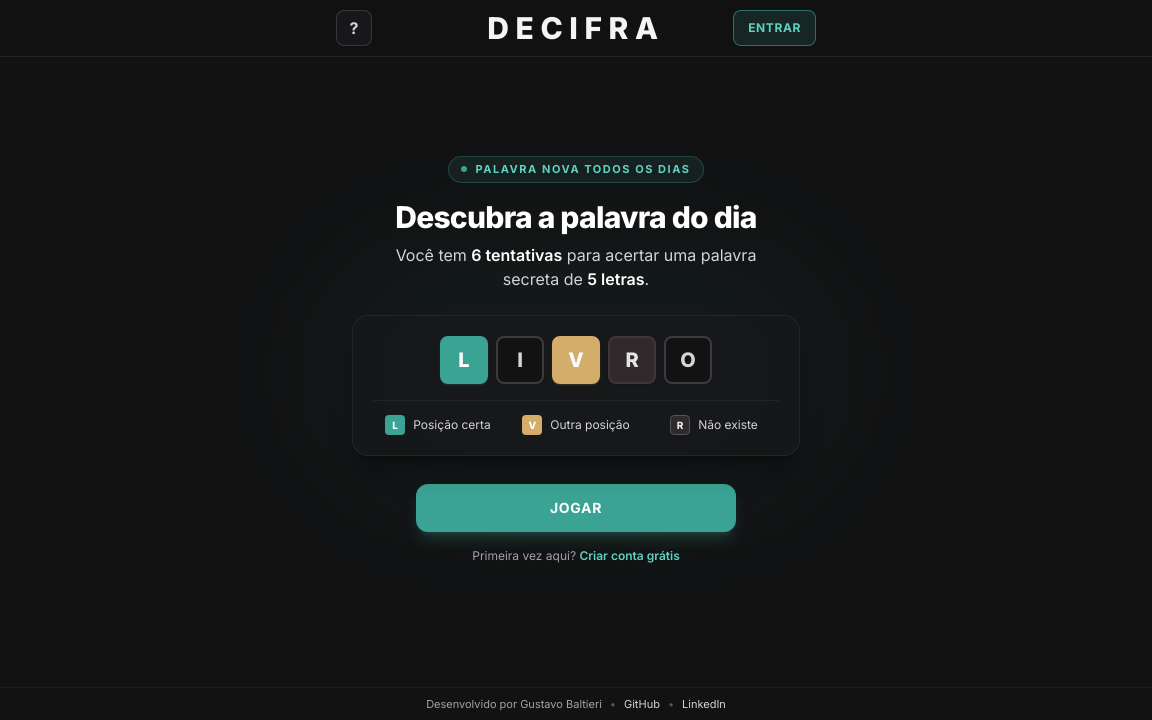
Autenticação (Login, Cadastro e Logout) › exibe toast de erro quando a API retorna 401 no login
Click the button "Entrar".
click(775, 28)  # box [733, 10, 816, 46]
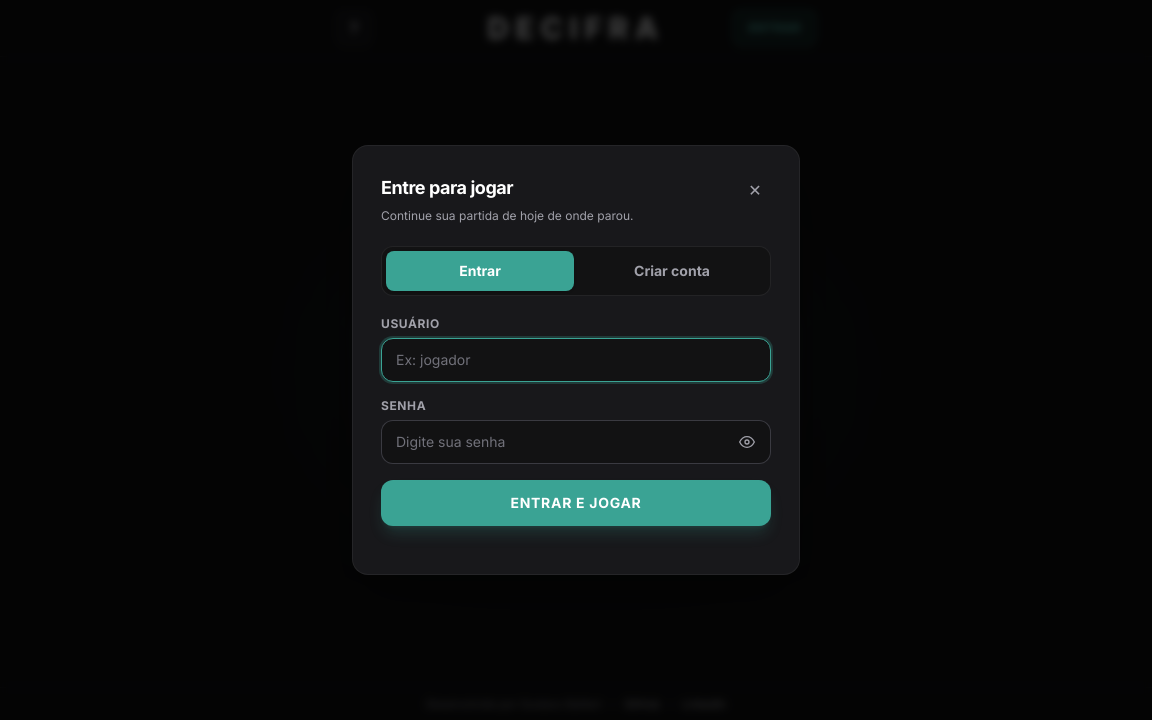
Type "jogador" into the field labelled "Usuário".
click(576, 360); type("jogador")  # box [381, 338, 771, 382]
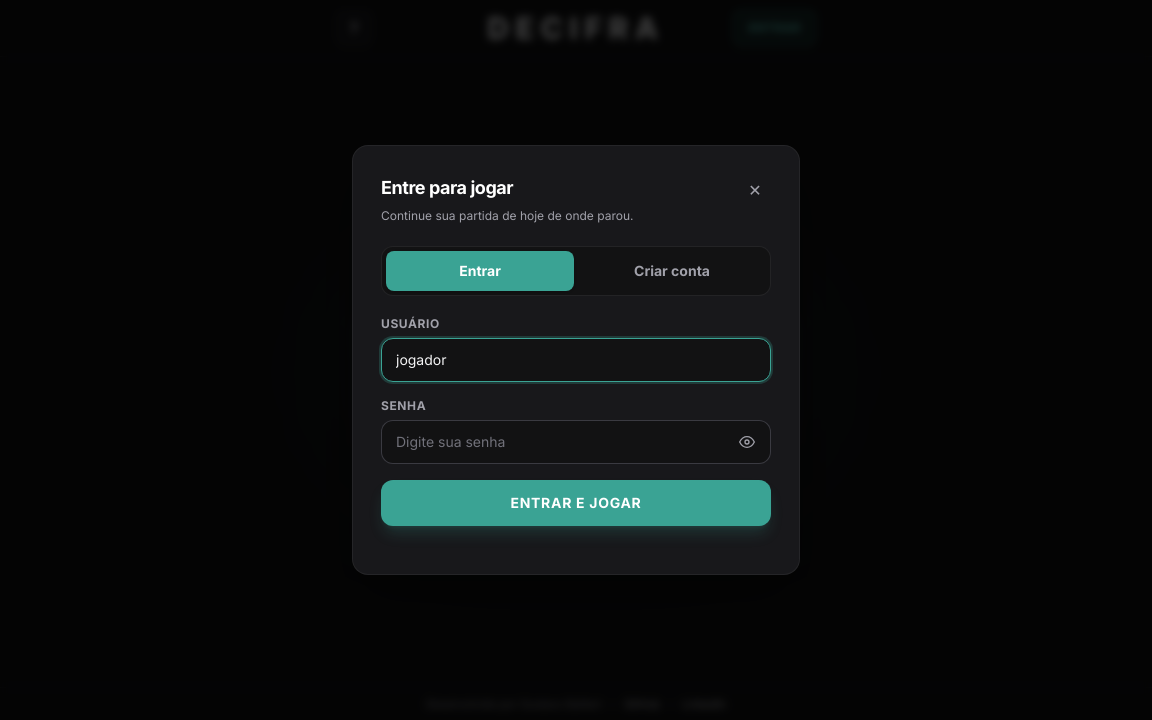
Type "errada" into the password field labelled "Senha".
click(576, 442); type("errada")  # box [381, 420, 771, 464]
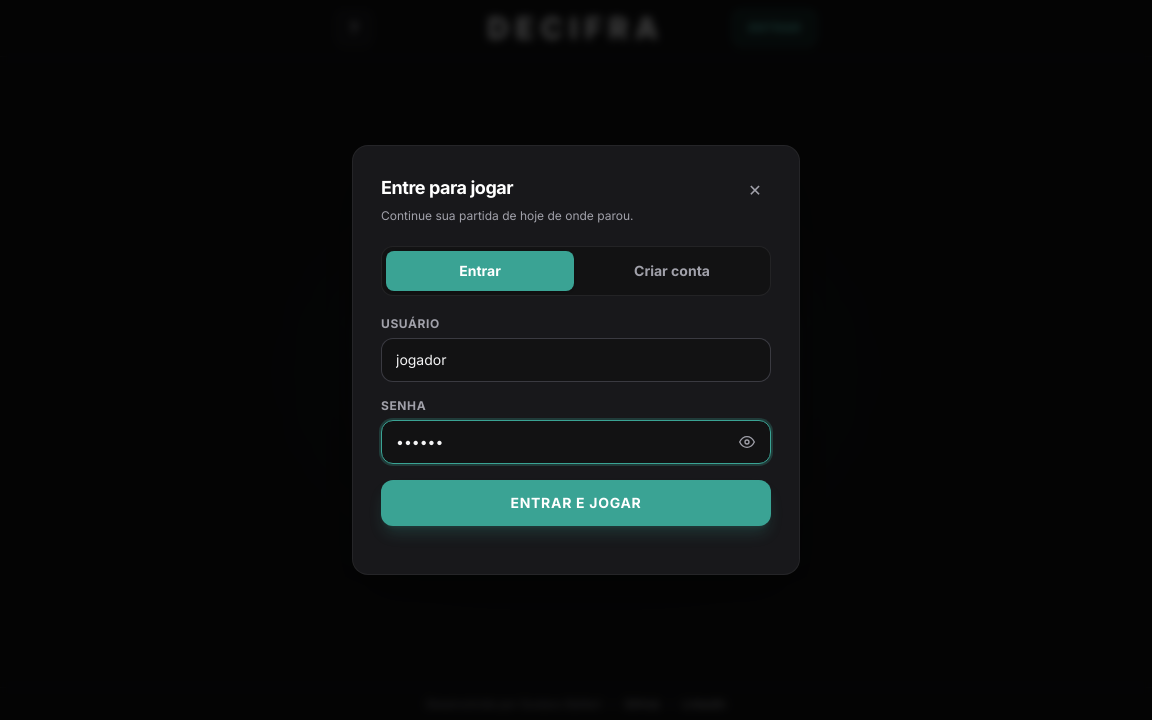
Click the button "Entrar e Jogar".
click(576, 503)  # box [381, 480, 771, 526]
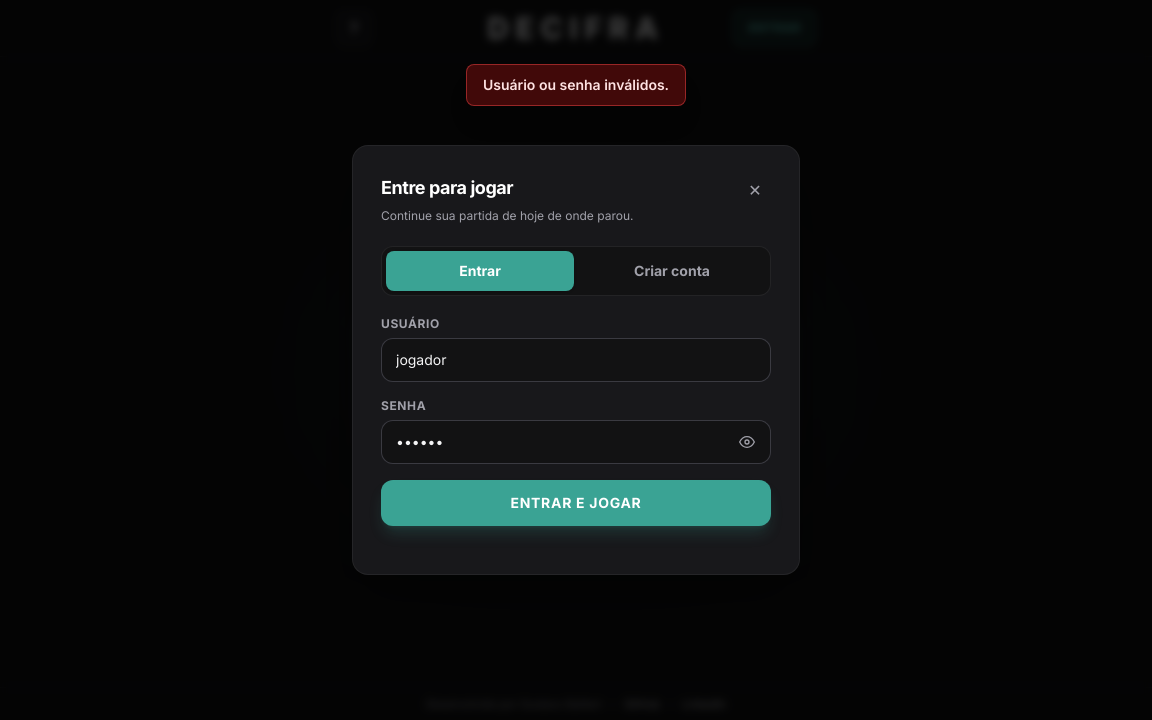
Expected: the text "Usuário ou senha inválidos." is shown, [466, 64, 686, 106]
